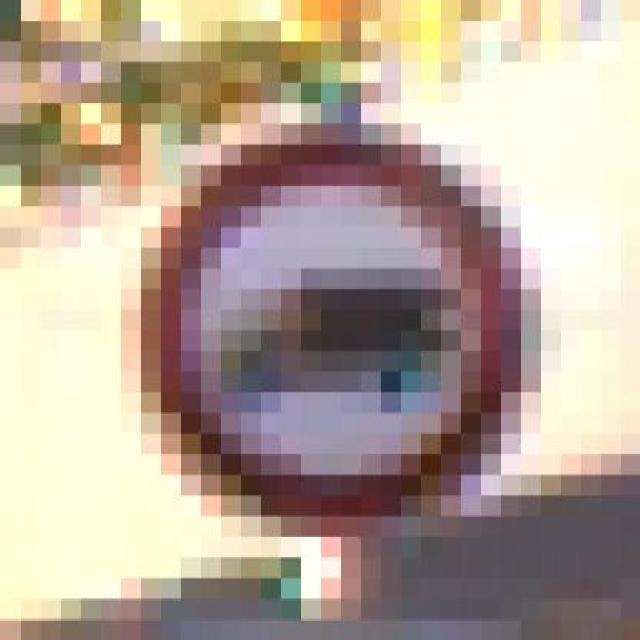Truck traffic is prohibited: (120, 83, 540, 537)
